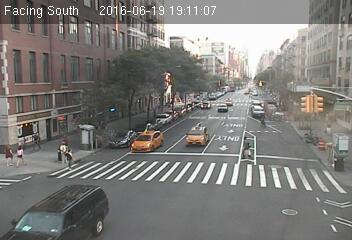neg: (297, 113, 321, 145), (58, 44, 77, 70), (196, 11, 214, 35), (233, 18, 251, 41), (184, 50, 199, 70), (156, 72, 169, 90), (201, 120, 214, 137), (131, 63, 144, 80), (135, 127, 148, 144), (227, 82, 239, 99), (142, 17, 152, 31), (263, 68, 272, 80), (136, 103, 145, 115)
pos: (236, 133, 257, 161), (11, 141, 29, 164), (61, 146, 78, 169), (27, 128, 44, 151), (55, 139, 69, 159)
